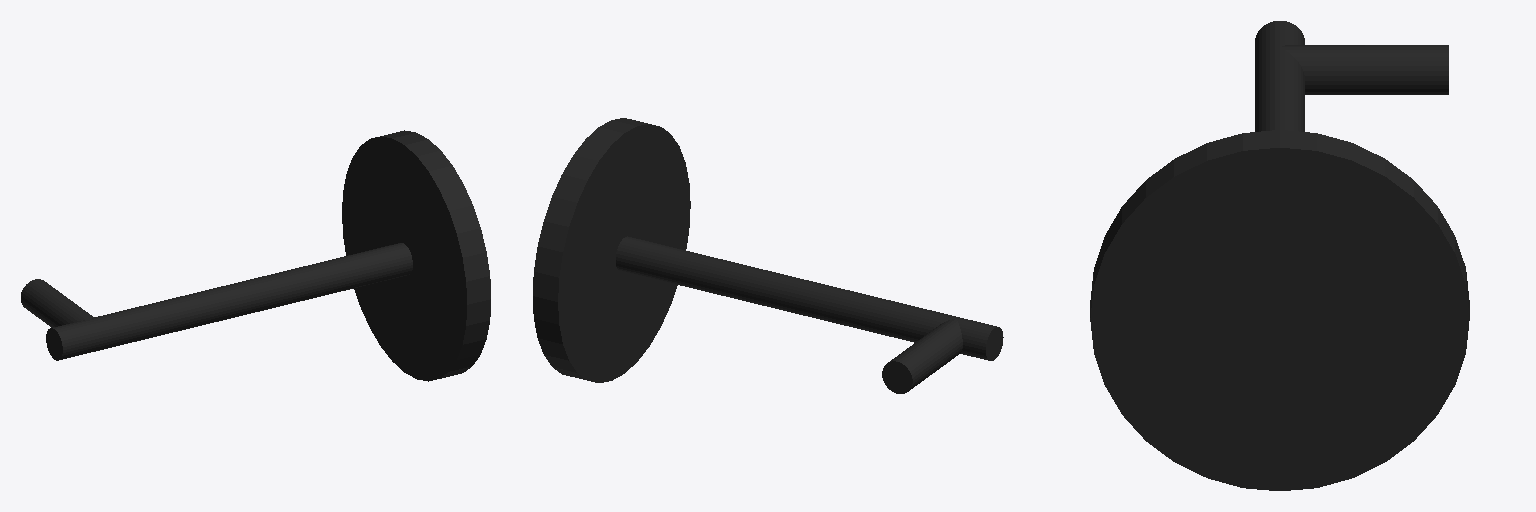
URDF robot description (inert_hand_left):
<?xml version="1.0" ?>
<!-- =================================================================================== -->
<!-- |    This document was autogenerated by xacro from inert_hand_left.urdf.xacro     | -->
<!-- |    EDITING THIS FILE BY HAND IS NOT RECOMMENDED                                 | -->
<!-- =================================================================================== -->
<robot name="inert_hand_left" xmlns:controller="http://playerstage.sourceforge.net/gazebo/xmlschema/#controller" xmlns:interface="http://playerstage.sourceforge.net/gazebo/xmlschema/#interface" xmlns:sensor="http://playerstage.sourceforge.net/gazebo/xmlschema/#sensor" xmlns:xacro="http://www.ros.org/wiki/xacro">
  <link name="plane::xy::base">
    <inertial>
      <mass value="0.1"/>
      <origin rpy="0 0 0" xyz="0 0 0.0"/>
      <inertia ixx="0.01" ixy="0" ixz="0" iyy="0.01" iyz="0" izz="0.01"/>
    </inertial>
  </link>
  <joint name="left_hook_hand_joint" type="fixed">
    <origin rpy="1.57 -1.57 -1.57" xyz="0.0 0.0 0.0"/>
    <parent link="plane::xy::base"/>
    <child link="left_base_link"/>
  </joint>
  <link name="left_base_link">
    <inertial>
      <mass value="0.1"/>
      <origin xyz="0 0 0"/>
      <inertia ixx="0.001" ixy="0.0" ixz="0.0" iyy="0.001" iyz="0.0" izz="0.001"/>
    </inertial>
    <!-- MIT's own extension plate -->
    <collision>
      <geometry>
        <cylinder length="0.01" radius="0.045"/>
      </geometry>
      <origin rpy="0 0 0" xyz="0 0 0.025"/>
    </collision>
    <visual>
      <geometry>
        <cylinder length="0.01" radius="0.045"/>
      </geometry>
      <material name="darkgray">
        <color rgba="0.2 0.2 0.2 1"/>
      </material>
      <origin rpy="0 0 0" xyz="0 0 0.025"/>
    </visual>
    <!-- MIT's pointer rod -->
    <collision>
      <geometry>
        <cylinder length="0.15" radius="0.006"/>
      </geometry>
      <origin rpy="0 0 0" xyz="0 0 0.1"/>
    </collision>
    <visual>
      <geometry>
        <cylinder length="0.15" radius="0.006"/>
      </geometry>
      <material name="darkgray">
        <color rgba="0.2 0.2 0.2 1"/>
      </material>
      <origin rpy="0 0 0" xyz="0 0 0.1"/>
    </visual>
    <!-- MIT's hook -->
    <collision>
      <geometry>
        <cylinder length="0.04" radius="0.006"/>
      </geometry>
      <origin rpy="0 1.571 1.571" xyz="0.00 0.02 0.16"/>
    </collision>
    <visual>
      <geometry>
        <cylinder length="0.04" radius="0.006"/>
      </geometry>
      <material name="darkgray">
        <color rgba="0.2 0.2 0.2 1"/>
      </material>
      <origin rpy="0 1.571 1.571" xyz="0.00 0.02 0.16"/>
    </visual>
  </link>
  <!--  <xacro:include filename="$(find hook_description)/src/bdihook_hand.urdf.xacro" />-->
  <!--  <xacro:hook_hand side="left" parent="plane::xy::base" reflect="-1" hookflip="1">-->
  <!--    <origin rpy="1.57 -1.57 -1.57" xyz="0 0 0"/>   -->
  <!--  </xacro:hook_hand>    -->
</robot>

--- Render facts (derived) ---
3 views of the same robot in one strip: view 1: azimuth 30°, elevation 25°; view 2: azimuth 150°, elevation 25°; view 3: azimuth 270°, elevation 25° (orthographic).
Robot: inert_hand_left — 2 links, 1 joints (1 fixed); root link plane::xy::base; default pose: all joints at 0.
Links seen in each view (by area): view 1: left_base_link; view 2: left_base_link; view 3: left_base_link.
Boxes of the visible links, x1,y1,x2,y2 form: left_base_link: [21, 130, 490, 381]; left_base_link: [533, 118, 1003, 393]; left_base_link: [1090, 21, 1469, 490].
Size in the robot's own frame: 0.155 by 0.09 by 0.09 metres.
Geometry: primitives only (box / cylinder / sphere), no mesh files.